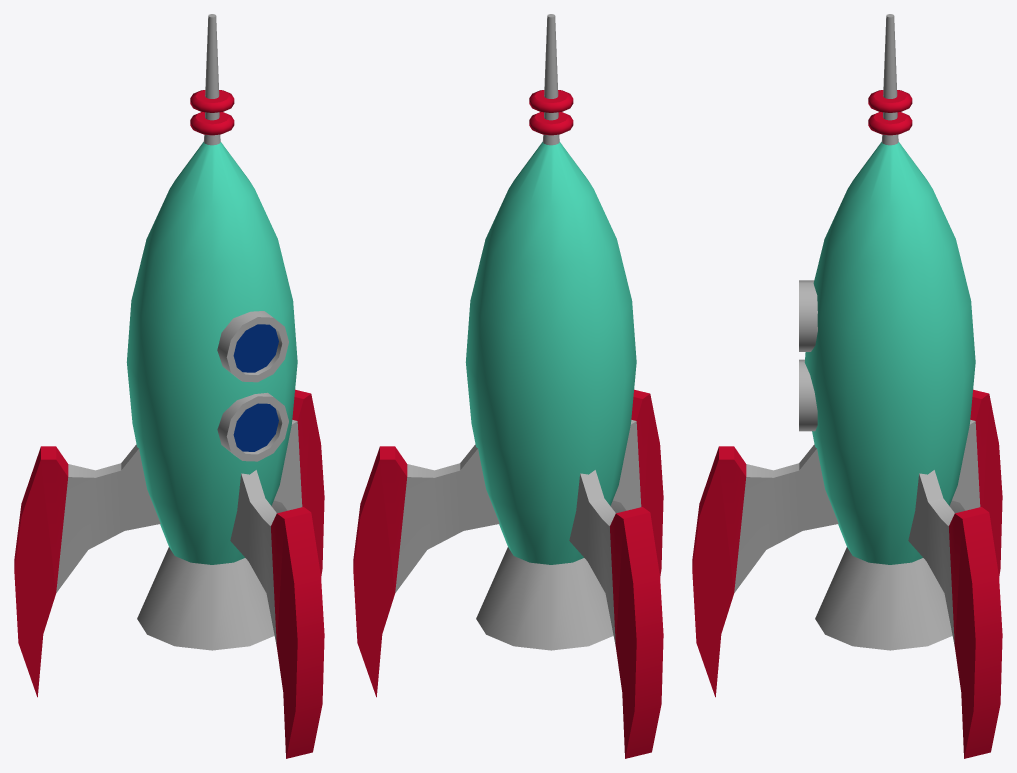
The model's file is Rocket.fbx.
3 renders of one model, left to right at view 1: azimuth 30°, elevation 25°; view 2: azimuth 150°, elevation 25°; view 3: azimuth 270°, elevation 25°, orthographic.
Parts seen in each view (by area): view 1: Body, Stand2, Stand1, Stand3, Window1, Window2; view 2: Body, Stand3, Stand2, Stand1; view 3: Body, Stand1, Stand3, Stand2, Window1, Window2.
Part boxes in pixels (x1,y1,x2,y2): Body: (126, 14, 297, 650); Stand2: (14, 444, 160, 697); Stand1: (230, 470, 324, 758); Stand3: (271, 389, 324, 577); Window1: (217, 311, 288, 382); Window2: (217, 392, 288, 461); Body: (465, 14, 636, 650); Stand3: (353, 444, 499, 697); Stand2: (569, 470, 663, 758); Stand1: (610, 389, 663, 577); Body: (804, 14, 975, 650); Stand1: (692, 444, 838, 697); Stand3: (908, 470, 1002, 758); Stand2: (949, 389, 1002, 577); Window1: (799, 280, 817, 351); Window2: (799, 359, 817, 431).
Bounding box in the file's own units: 4.08 × 8.5 × 3.53.
